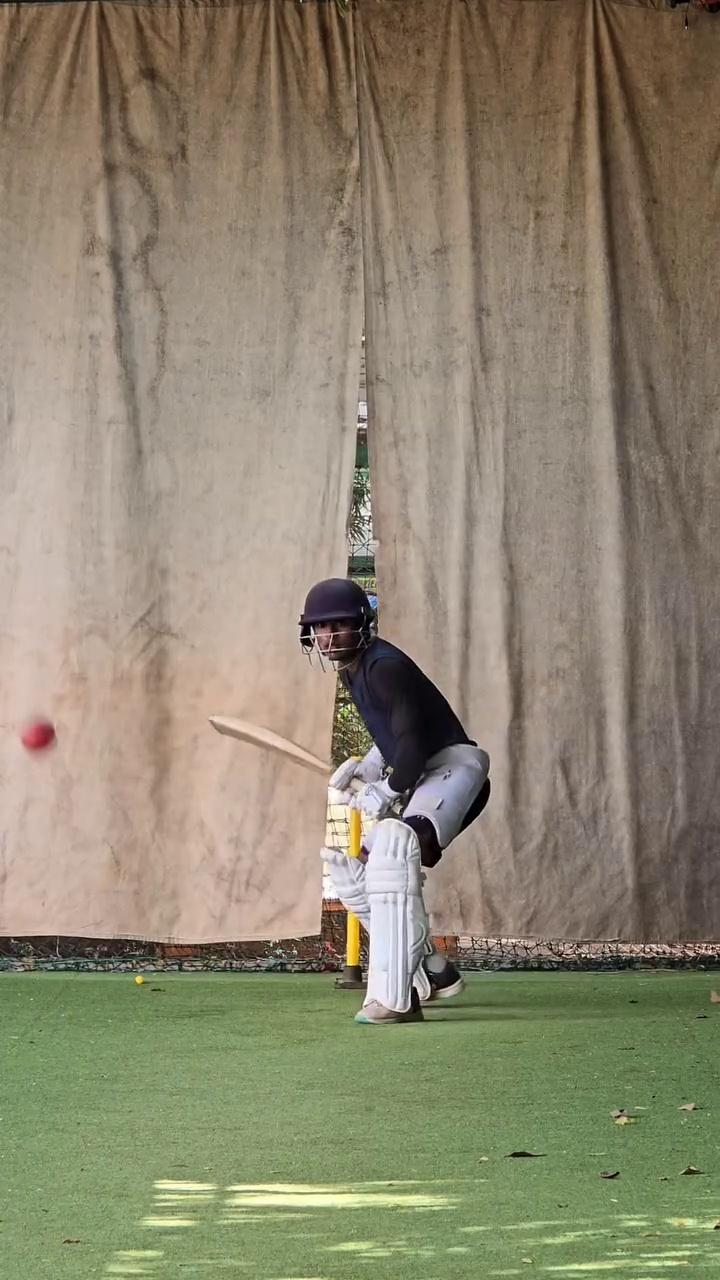bat: (201, 700, 336, 794)
